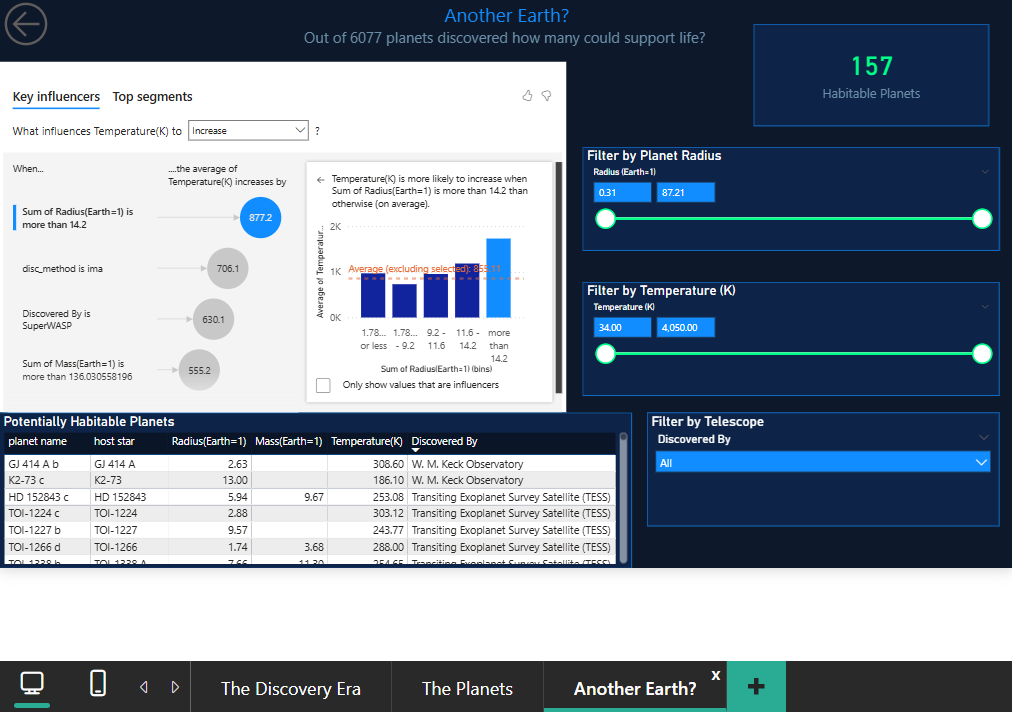

Layout of this report page (visuals, bound fields, positions):
{"tool":"powerbi","page":{"name":"Another Earth?","canvas":[1280,720],"ordinal":2},"visuals":[{"type":"textbox","box":[353.4,0,572.6,68],"z":0},{"type":"keyDriversVisual","title":"What Makes a Planet Potentially Habitable?","fields":{"Target":["nasa_sxoplanets.pl_eqt"],"ExplainBy":["Sum(nasa_sxoplanets.pl_rade)","Sum(nasa_sxoplanets.pl_masse)","nasa_sxoplanets.disc_method","nasa_sxoplanets.disc_facility"]},"box":[0,81.3,714.3,442.2],"z":1000},{"type":"actionButton","box":[0,0,75.6,68],"z":2000},{"type":"tableEx","title":"Potentially Habitable Planets","fields":{"Values":["nasa_sxoplanets.pl_name","nasa_sxoplanets.hostname","Sum(nasa_sxoplanets.pl_rade)","Sum(nasa_sxoplanets.pl_masse)","Sum(nasa_sxoplanets.pl_eqt)","nasa_sxoplanets.disc_facility"]},"box":[0,523.5,797.5,196.5],"z":3000},{"type":"slicer","title":"Filter by Planet Radius","fields":{"Values":["nasa_sxoplanets.Radius(Earth=1)"]},"box":[735.1,189,525.4,130.4],"z":4000},{"type":"slicer","title":"Filter by Temperature (K)","fields":{"Values":["nasa_sxoplanets.Temperature(K)"]},"box":[735.1,359.1,525.4,143.6],"z":5000},{"type":"slicer","title":"Filter by Telescope","fields":{"Values":["nasa_sxoplanets.Discovered By"]},"box":[816.4,523.5,444.1,143.6],"z":6000},{"type":"advanceCardE03760C5AB684758B56AA29F9E6C257B","fields":{"mainMeasure":["nasa_sxoplanets.Habitable Planets"]},"box":[950.6,34,296.7,128.5],"z":7000}]}

Visuals, with their boxes on the page's 1280x720 design canvas (x1, y1, x2, y2). These are canvas units, not pixel positions in the 1012x712 screenshot, which may show the page scaled, cropped or inside an application window:
textbox: bbox=[353, 0, 926, 68]
"What Makes a Planet Potentially Habitable?" keyDriversVisual: bbox=[0, 81, 714, 524]
actionButton: bbox=[0, 0, 76, 68]
"Potentially Habitable Planets" tableEx: bbox=[0, 524, 798, 720]
"Filter by Planet Radius" slicer: bbox=[735, 189, 1260, 319]
"Filter by Temperature (K)" slicer: bbox=[735, 359, 1260, 503]
"Filter by Telescope" slicer: bbox=[816, 524, 1260, 667]
advanceCardE03760C5AB684758B56AA29F9E6C257B - nasa_sxoplanets.Habitable Planets: bbox=[951, 34, 1247, 162]
